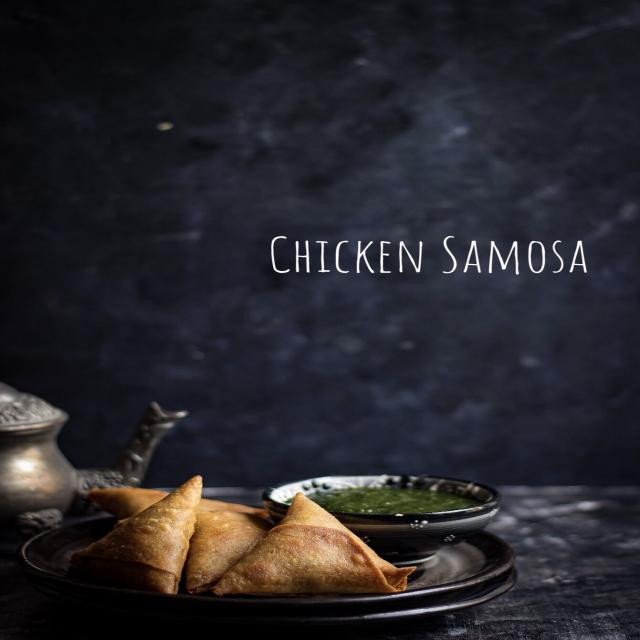SAMOSA: (71, 478, 414, 596)
